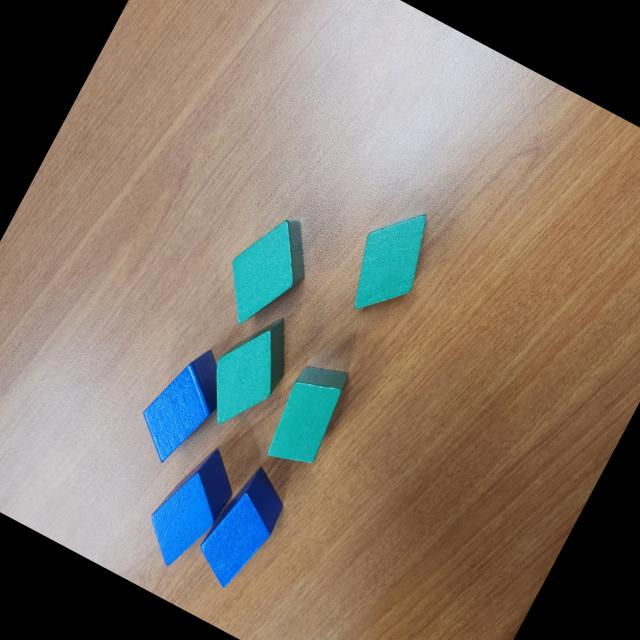blue: (133, 436, 248, 576), (126, 336, 236, 472), (188, 461, 296, 596)
green: (189, 298, 308, 441), (207, 202, 325, 338), (334, 194, 446, 326), (256, 354, 356, 476)
